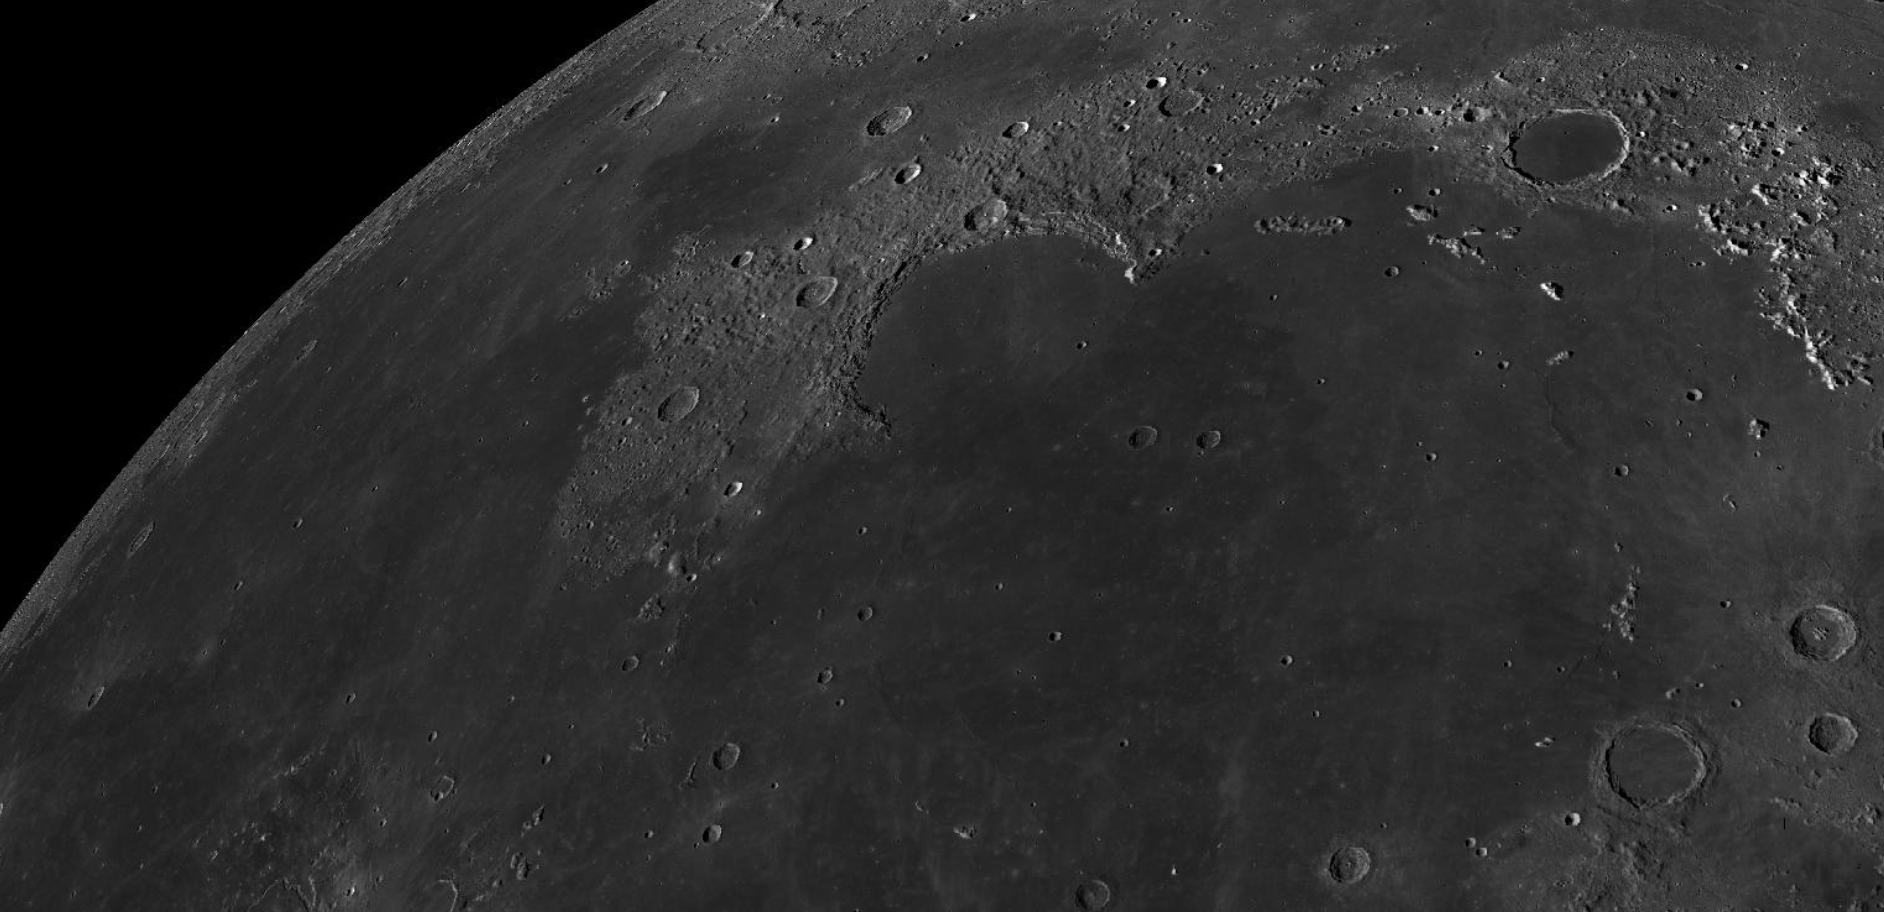crater: (1579, 687, 1736, 836), (1477, 78, 1636, 223), (49, 633, 142, 761), (1757, 588, 1873, 673), (112, 507, 197, 592), (1284, 841, 1411, 895), (602, 72, 687, 151), (649, 372, 725, 447), (777, 266, 858, 335), (837, 96, 936, 151), (1105, 403, 1173, 469), (682, 733, 757, 788), (983, 100, 1043, 166), (1671, 369, 1719, 424), (794, 656, 845, 685)
